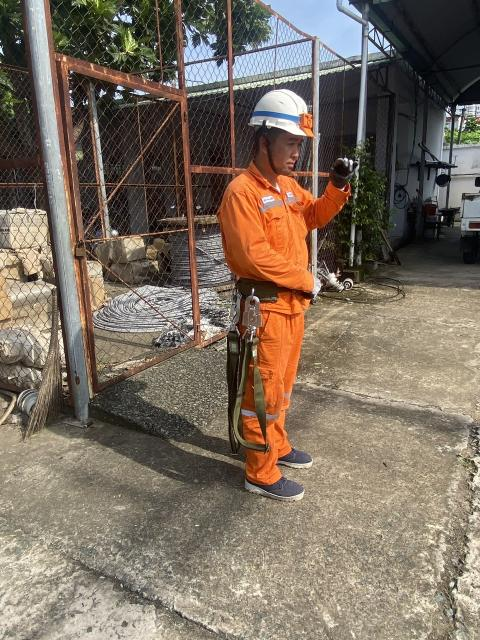gloves: (323, 158, 359, 192), (302, 274, 330, 301)
harness: (221, 273, 307, 314)
helmet: (241, 81, 326, 142)
shoes: (244, 463, 310, 511), (266, 439, 318, 470)
